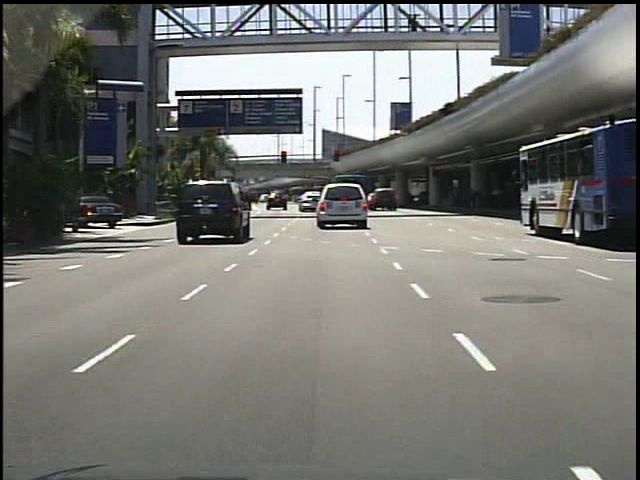person: (402, 14, 421, 43)
